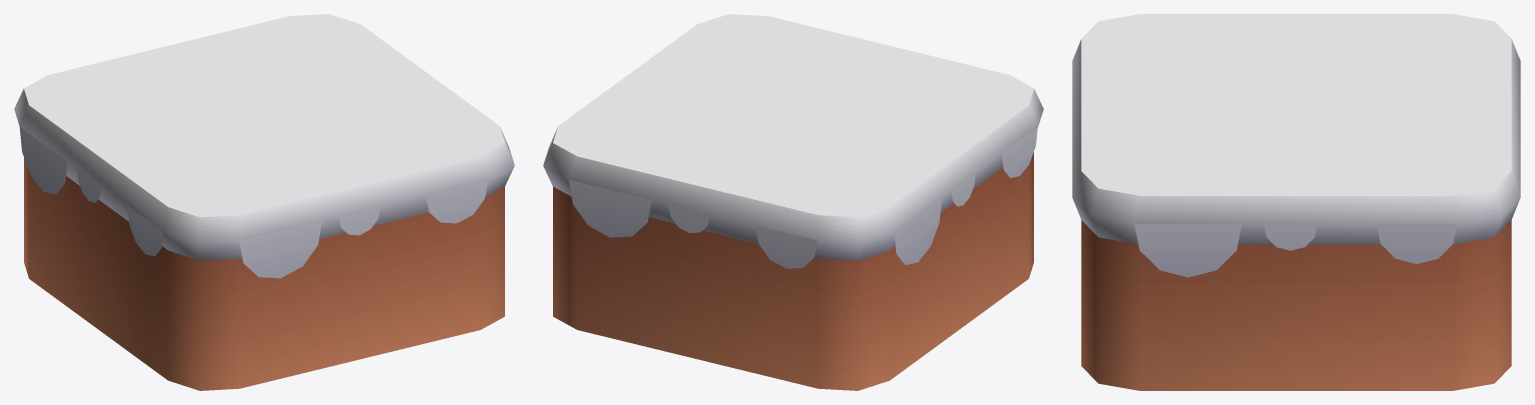
Rendered from block-snow-overhang-large.glb.
3 views of the same model, side by side, from view 1: azimuth 30°, elevation 25°; view 2: azimuth 150°, elevation 25°; view 3: azimuth 270°, elevation 25° (orthographic). The views are drawn at different scales.
Visible parts, largest first — view 1: block-snow-overhang-large; view 2: block-snow-overhang-large; view 3: block-snow-overhang-large.
Part boxes in pixels (x1=…): block-snow-overhang-large: x1=14, y1=14, x2=514, y2=390; block-snow-overhang-large: x1=543, y1=14, x2=1043, y2=390; block-snow-overhang-large: x1=1072, y1=14, x2=1520, y2=390.
Size of the model in its own units: 2.08 by 1 by 2.08.
Materials: 1 (1 with a texture image).
